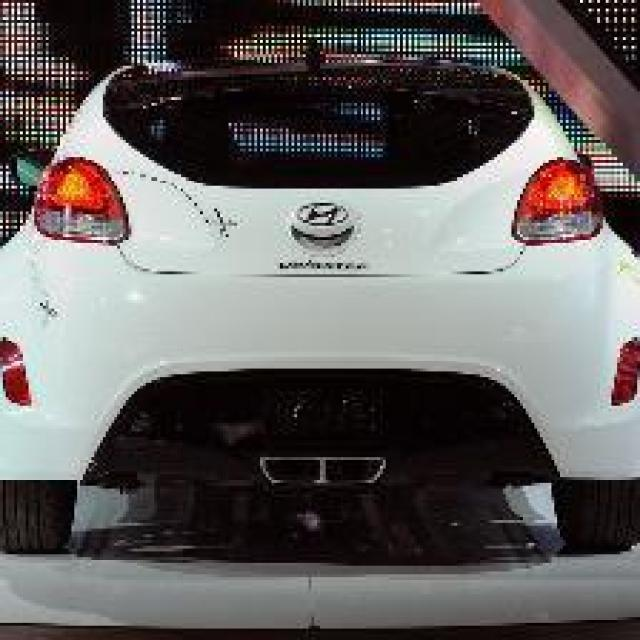damaged: (114, 168, 243, 246)
